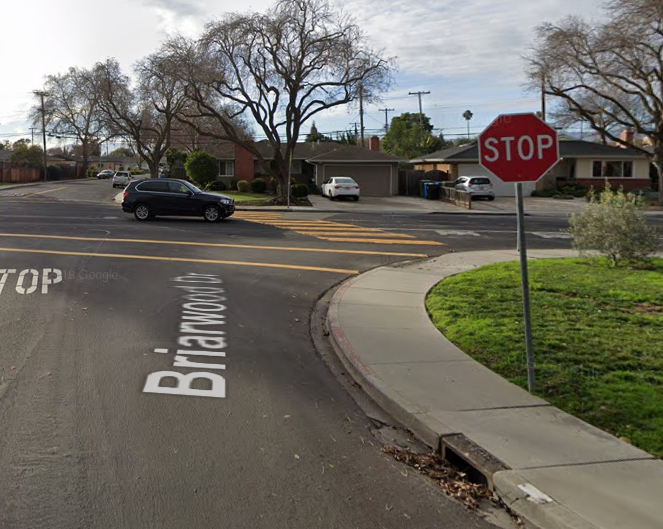stop_sign: (479, 113, 560, 181)
